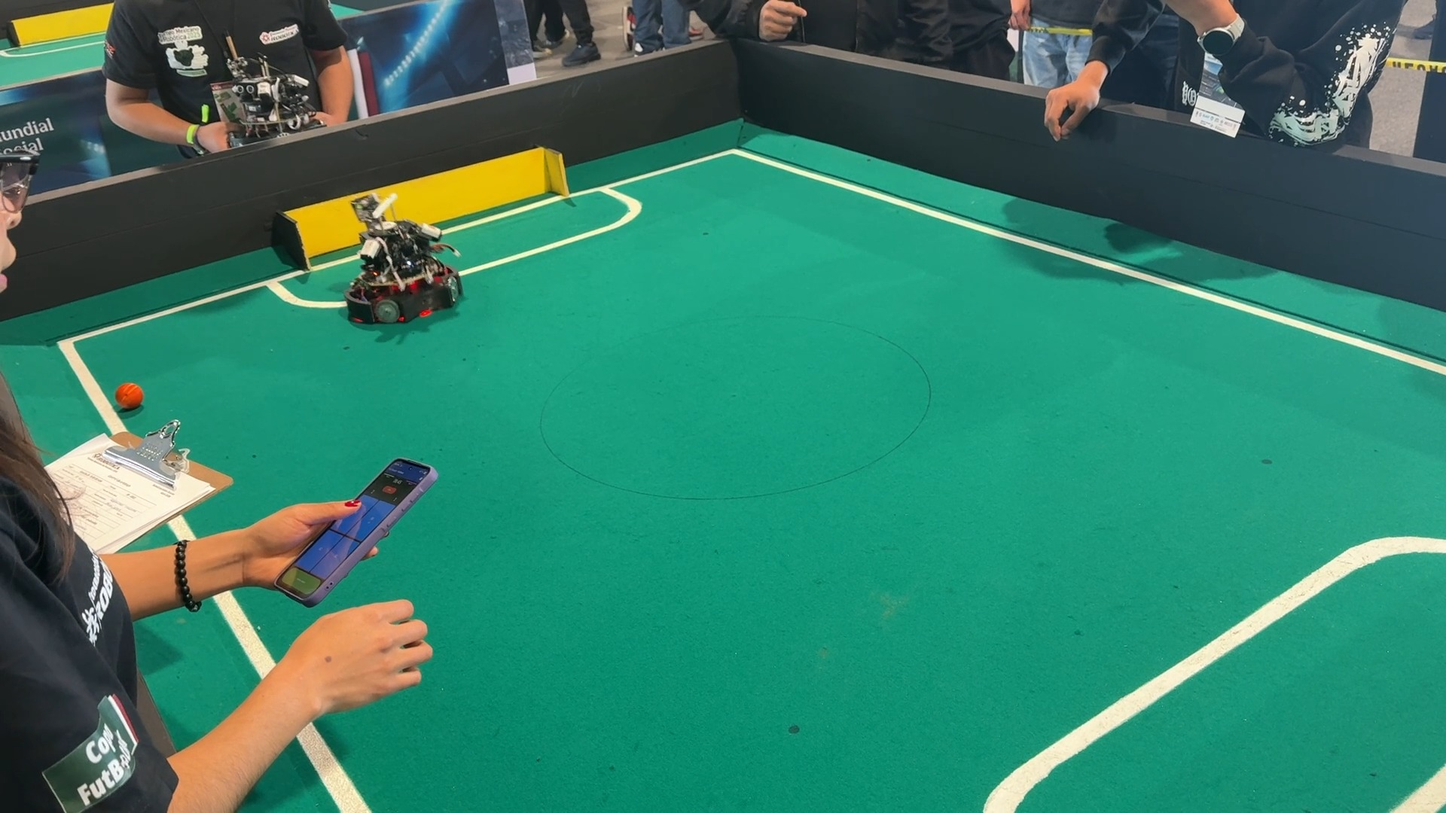Robot: (333, 183, 485, 343)
pelota: (112, 378, 154, 418)
